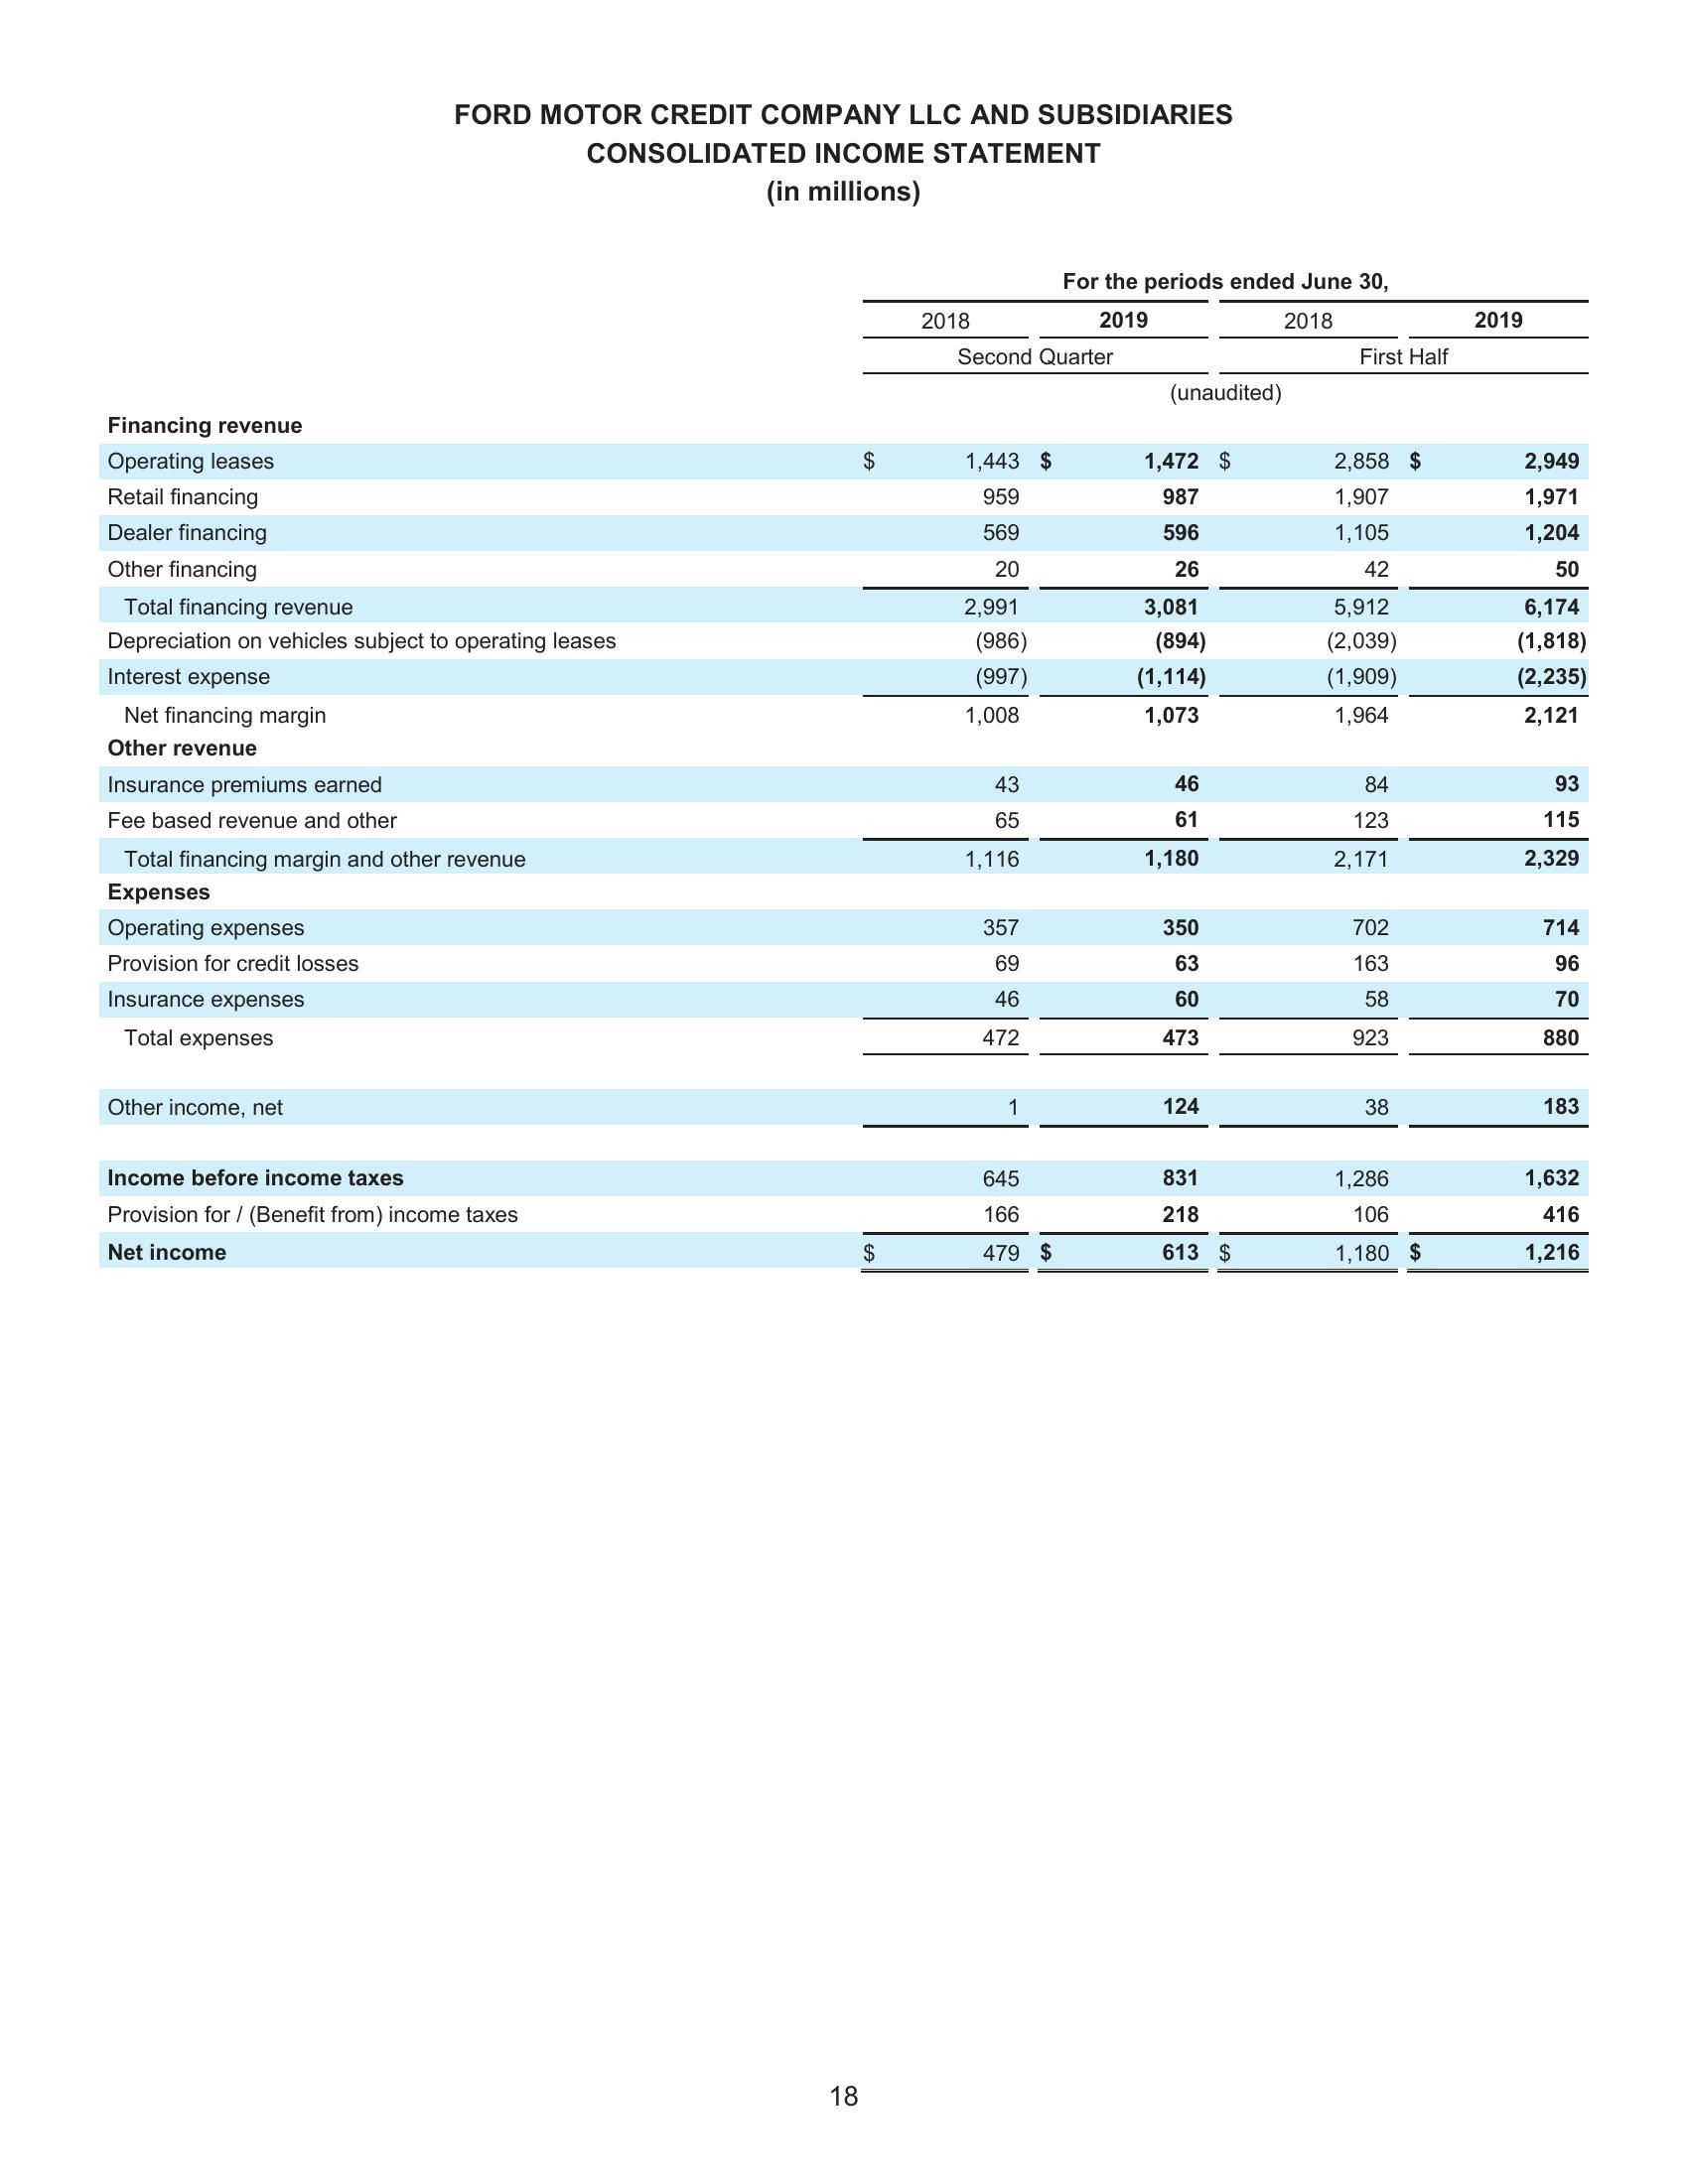table: (96, 262, 1596, 1280)
